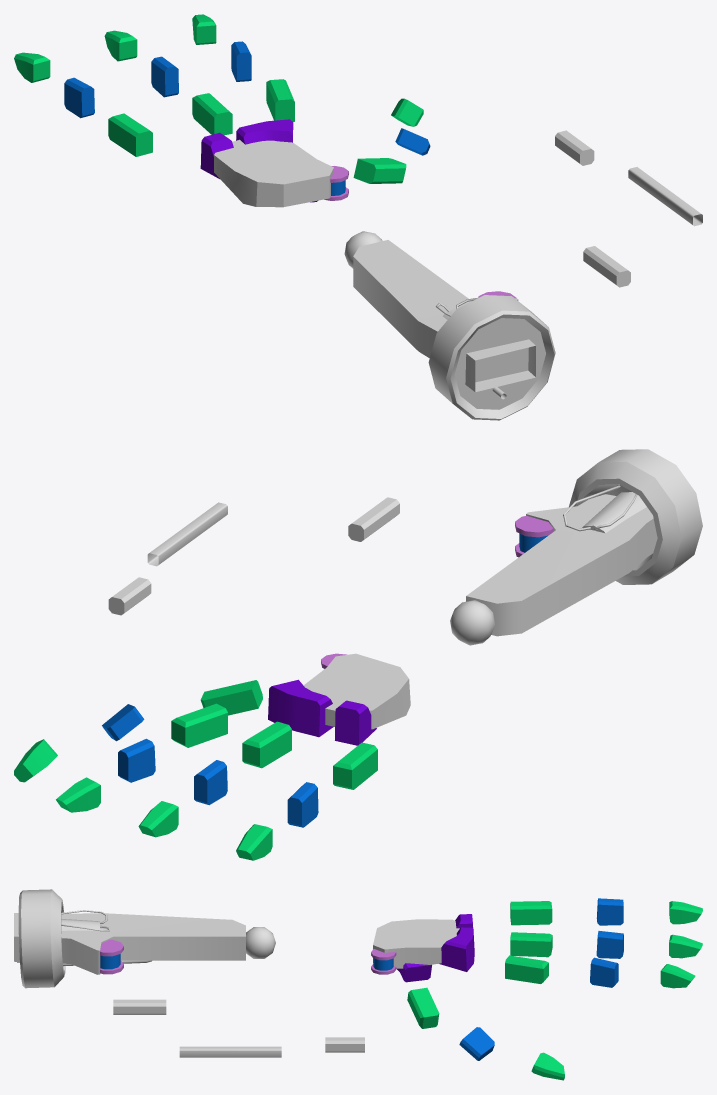
File: SK_CAWU_Arm.fbx
3 renders of one model, top to bottom at view 1: azimuth 30°, elevation 25°; view 2: azimuth 150°, elevation 25°; view 3: azimuth 270°, elevation 25°, orthographic. The views are drawn at different scales.
Visible parts, largest first — view 1: ArmJointBase.001, LowerArm.001, Cube.002, Cube.008, Cube.007, Cube.005, ArmPistonRod.001, ArmPistonBase.001, ArmPistonEnd.001; view 2: LowerArm.001, Cube.002, ArmJointBase.001, Cube.007, Cube.008, Cube.005, Icosphere.001, ArmPistonRod.001, ArmPistonBase.001, Cylinder.004, ArmPistonEnd.001; view 3: LowerArm.001, Cube.002, ArmJointBase.001, Cube.008, Cube.005, Cube.007, ArmPistonRod.001, ArmPistonBase.001, Icosphere.001, Cylinder.004, ArmPistonEnd.001, Cylinder.003.
Part boxes in pixels (x1,y1,x2,y2): ArmJointBase.001: [428, 295, 555, 420]; LowerArm.001: [353, 240, 535, 392]; Cube.002: [104, 14, 294, 144]; Cube.008: [214, 139, 333, 207]; Cube.007: [14, 52, 233, 179]; Cube.005: [310, 98, 430, 202]; ArmPistonRod.001: [628, 167, 702, 226]; ArmPistonBase.001: [583, 246, 630, 287]; ArmPistonEnd.001: [555, 130, 594, 165]; LowerArm.001: [466, 494, 657, 636]; Cube.002: [56, 679, 333, 837]; ArmJointBase.001: [569, 449, 702, 584]; Cube.007: [236, 700, 377, 860]; Cube.008: [303, 653, 410, 729]; Cube.005: [14, 680, 262, 782]; Icosphere.001: [450, 600, 494, 645]; ArmPistonRod.001: [147, 502, 227, 566]; ArmPistonBase.001: [348, 497, 399, 541]; Cylinder.004: [515, 515, 553, 557]; ArmPistonEnd.001: [108, 577, 151, 615]; LowerArm.001: [14, 913, 245, 974]; Cube.002: [439, 927, 702, 988]; ArmJointBase.001: [18, 889, 99, 988]; Cube.008: [373, 919, 459, 968]; Cube.005: [396, 963, 564, 1080]; Cube.007: [455, 898, 702, 928]; ArmPistonRod.001: [179, 1046, 281, 1057]; ArmPistonBase.001: [113, 999, 166, 1014]; Icosphere.001: [246, 927, 275, 958]; Cylinder.004: [100, 939, 123, 974]; ArmPistonEnd.001: [325, 1037, 364, 1052]; Cylinder.003: [371, 949, 396, 974].
Size of the model in its own units: 2495 by 784 by 5201.
